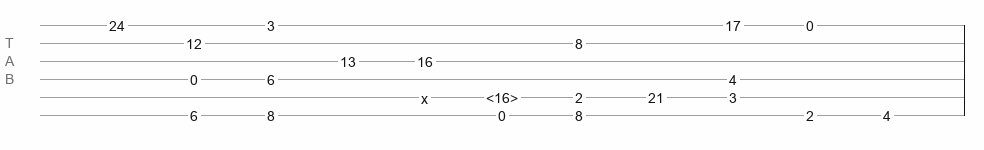0: (190, 72, 198, 82), (498, 108, 506, 118), (806, 18, 814, 28)
12: (186, 36, 202, 46)
13: (340, 54, 356, 64)
16: (417, 54, 433, 64)
17: (725, 18, 741, 28)
2: (575, 90, 583, 100), (806, 108, 814, 118)
21: (648, 90, 664, 100)
24: (109, 18, 125, 28)
3: (267, 18, 275, 28), (729, 90, 737, 100)
4: (729, 72, 737, 82), (883, 108, 891, 118)
6: (190, 108, 198, 118), (267, 72, 275, 82)
8: (267, 108, 275, 118), (575, 36, 583, 46), (575, 108, 583, 118)
harmonic: (486, 90, 518, 100)
x: (421, 91, 428, 99)
